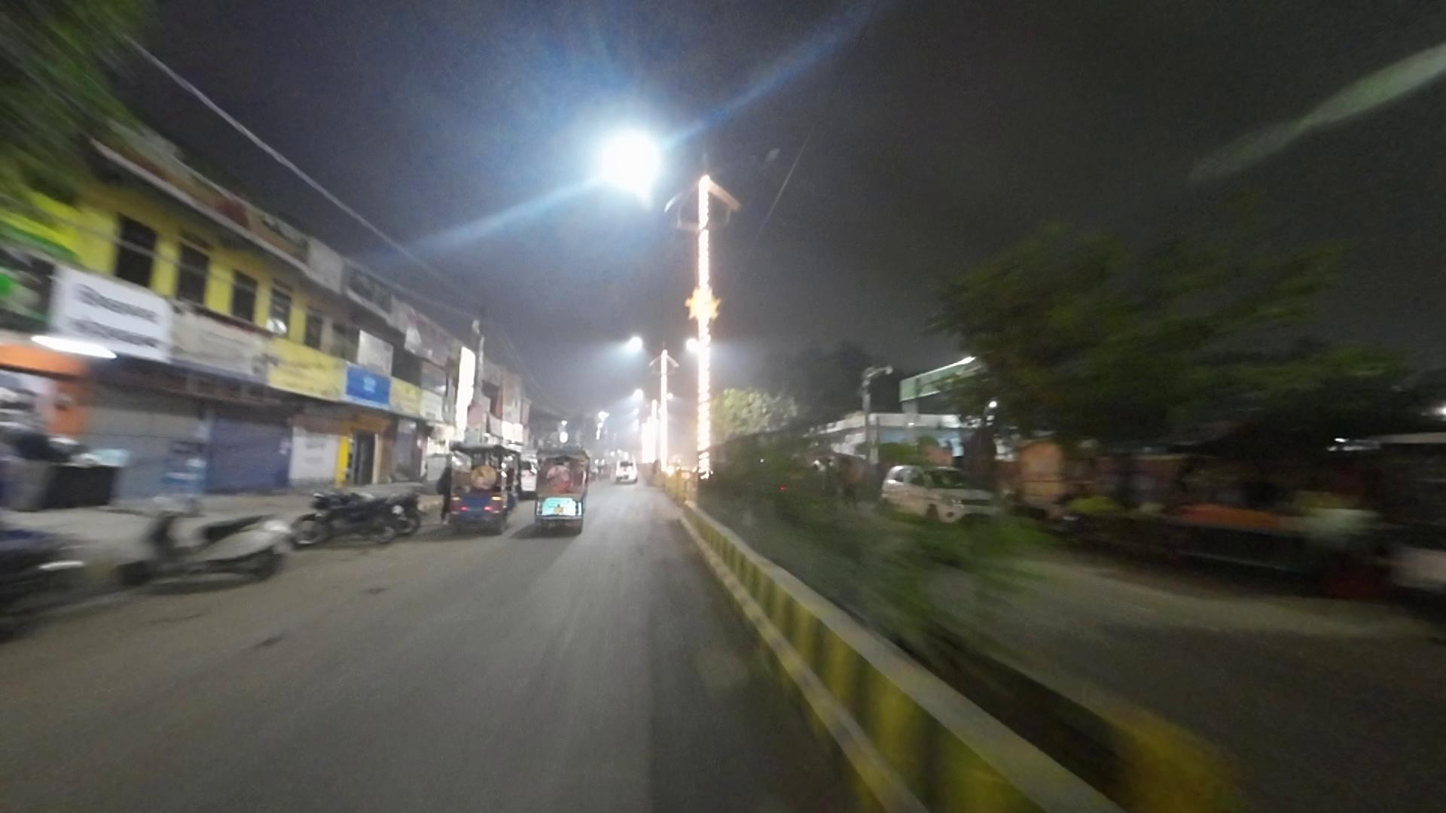streetlight: (718, 141, 784, 175)
